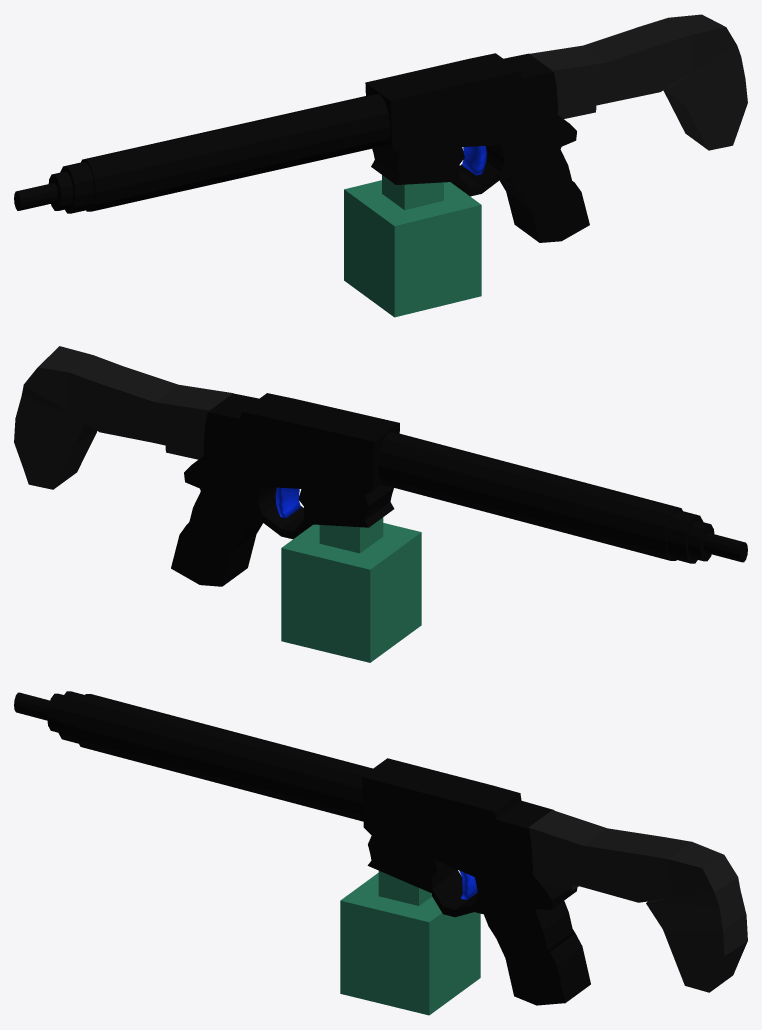
The model's file is M150_lmg_unsilenced1.glb.
The picture shows the model from 3 angles, top to bottom: view 1: azimuth 30°, elevation 25°; view 2: azimuth 150°, elevation 25°; view 3: azimuth 330°, elevation 25°; orthographic projection. The views are drawn at different scales.
Parts seen in each view (by area): view 1: body.001, barrel.001, stock.001, magzine, Cube.001; view 2: body.001, barrel.001, stock.001, magzine, Cube.001; view 3: body.001, stock.001, barrel.001, magzine.
Boxes of the visible parts, left/top/right/bottom form: body.001: left=365, top=53, right=589, bottom=242; barrel.001: left=14, top=94, right=390, bottom=213; stock.001: left=529, top=14, right=747, bottom=150; magzine: left=344, top=175, right=481, bottom=317; Cube.001: left=462, top=146, right=486, bottom=175; body.001: left=171, top=393, right=399, bottom=586; barrel.001: left=378, top=432, right=747, bottom=563; stock.001: left=14, top=346, right=233, bottom=489; magzine: left=281, top=517, right=421, bottom=662; Cube.001: left=275, top=487, right=300, bottom=518; body.001: left=362, top=758, right=590, bottom=1005; stock.001: left=528, top=810, right=747, bottom=992; barrel.001: left=14, top=691, right=372, bottom=821; magzine: left=340, top=871, right=480, bottom=1015.
Bounding box in the file's own units: 5.73 × 1.58 × 0.7021.
